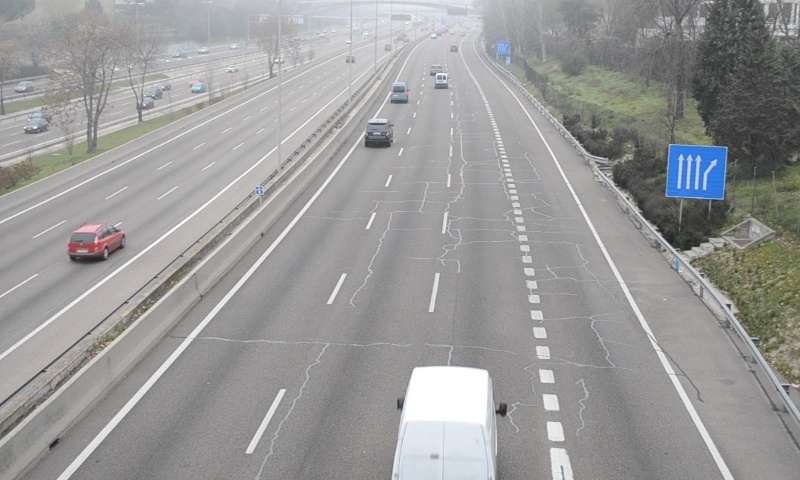car: (364, 118, 393, 146)
van: (393, 366, 498, 480), (390, 82, 408, 102)
